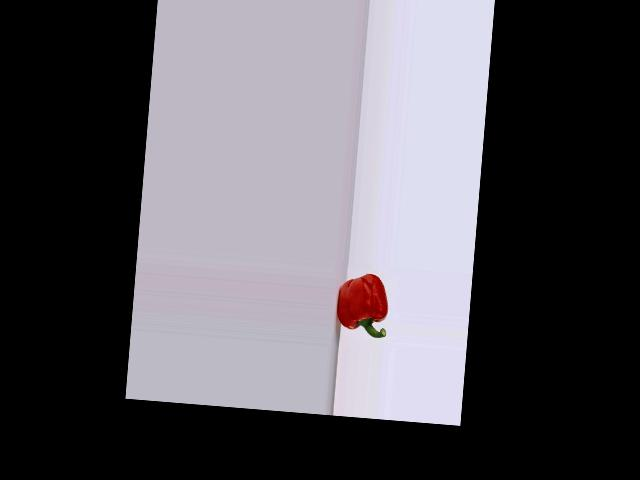bell_pepper: (332, 268, 393, 344)
